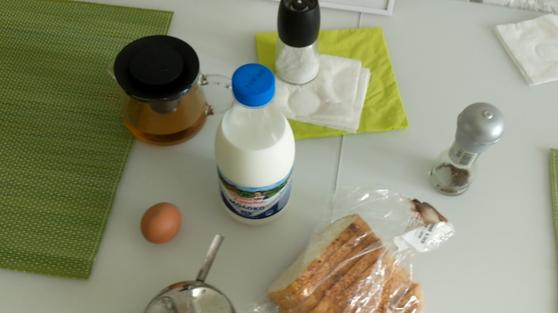egg: (141, 203, 183, 244)
